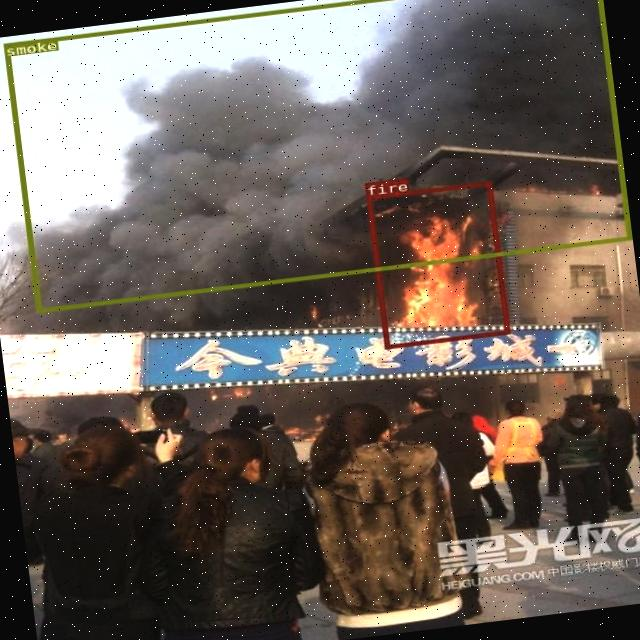fire: (366, 181, 508, 348)
smoke: (2, 0, 630, 311)
